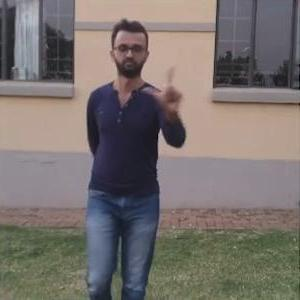land_hand: (140, 63, 186, 116)
